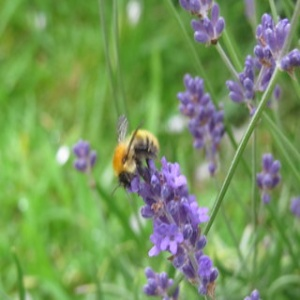bee: (112, 112, 159, 195)
